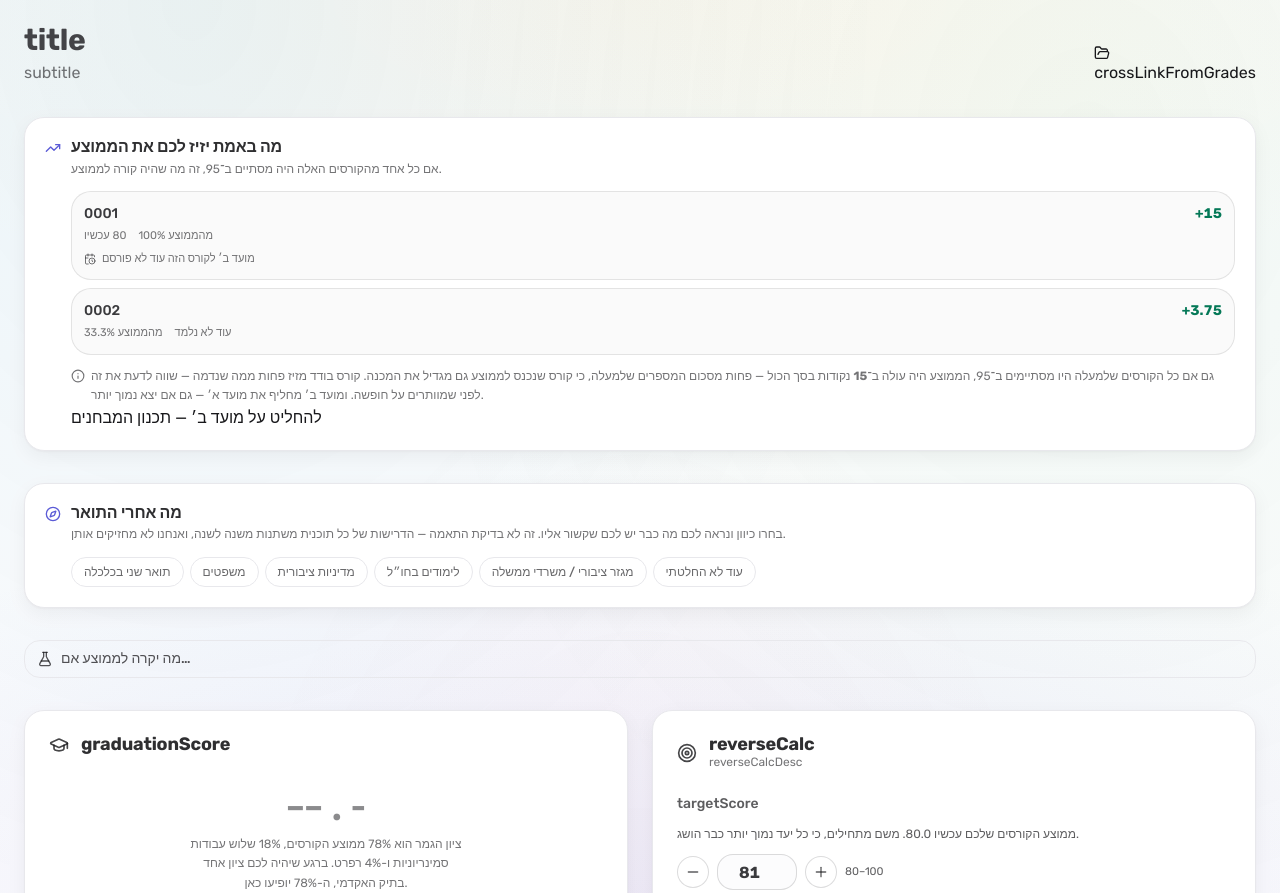
Scenario: ReverseCalculator honesty guards (#44 QA-8) › status flips to 'impossible' when the needed average exceeds 100
Expected: the text "impossible" is not shown
Replace the text in the number field with "100" at x=757, y=872, box [717,854,797,890]
(page scrolled)
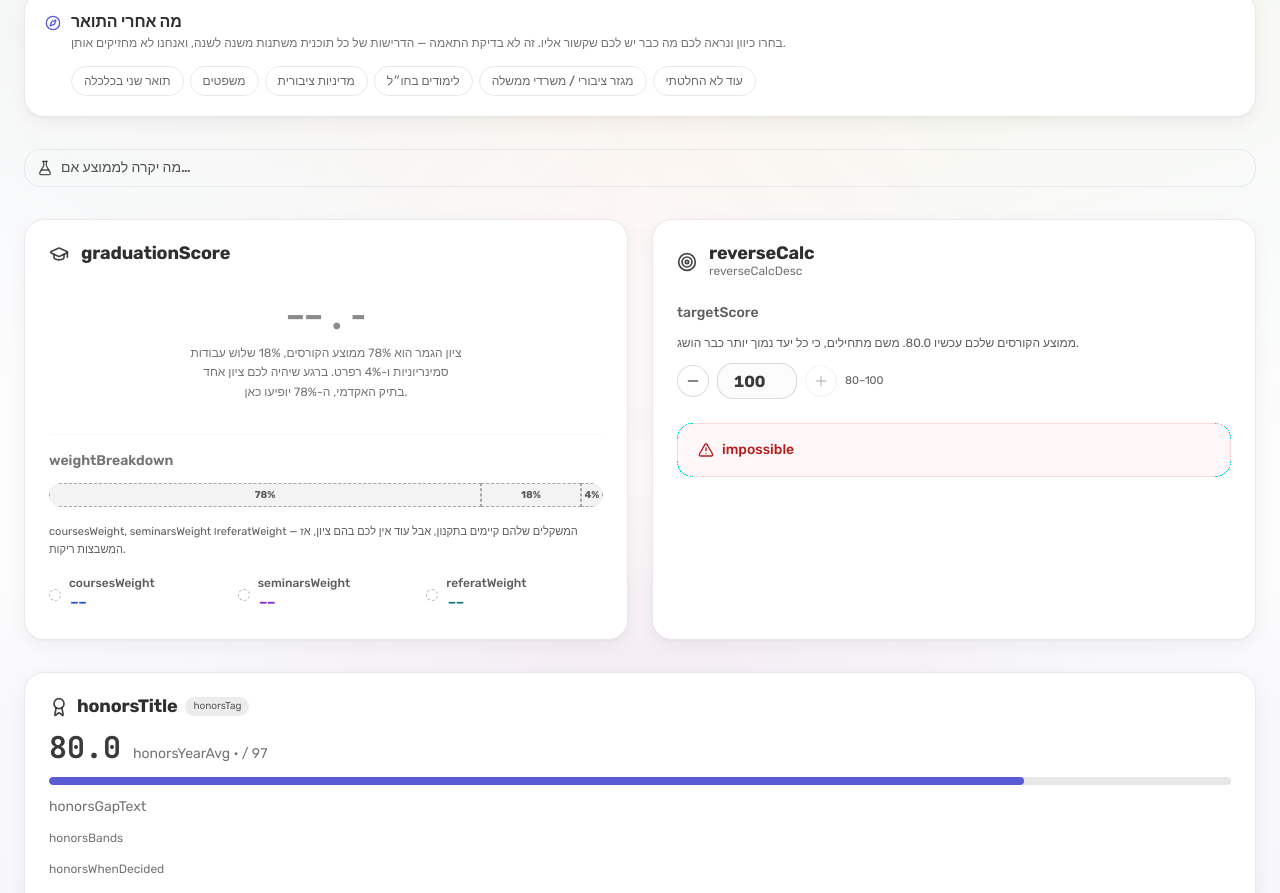
Result: the text "impossible" is shown at [722,440,794,460]
